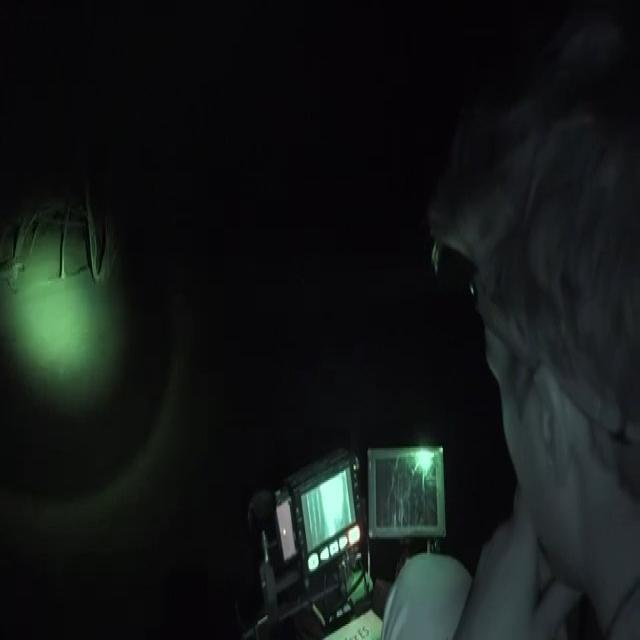animal: (0, 233, 38, 316)
device: (231, 389, 462, 640)
human: (461, 75, 640, 640)
